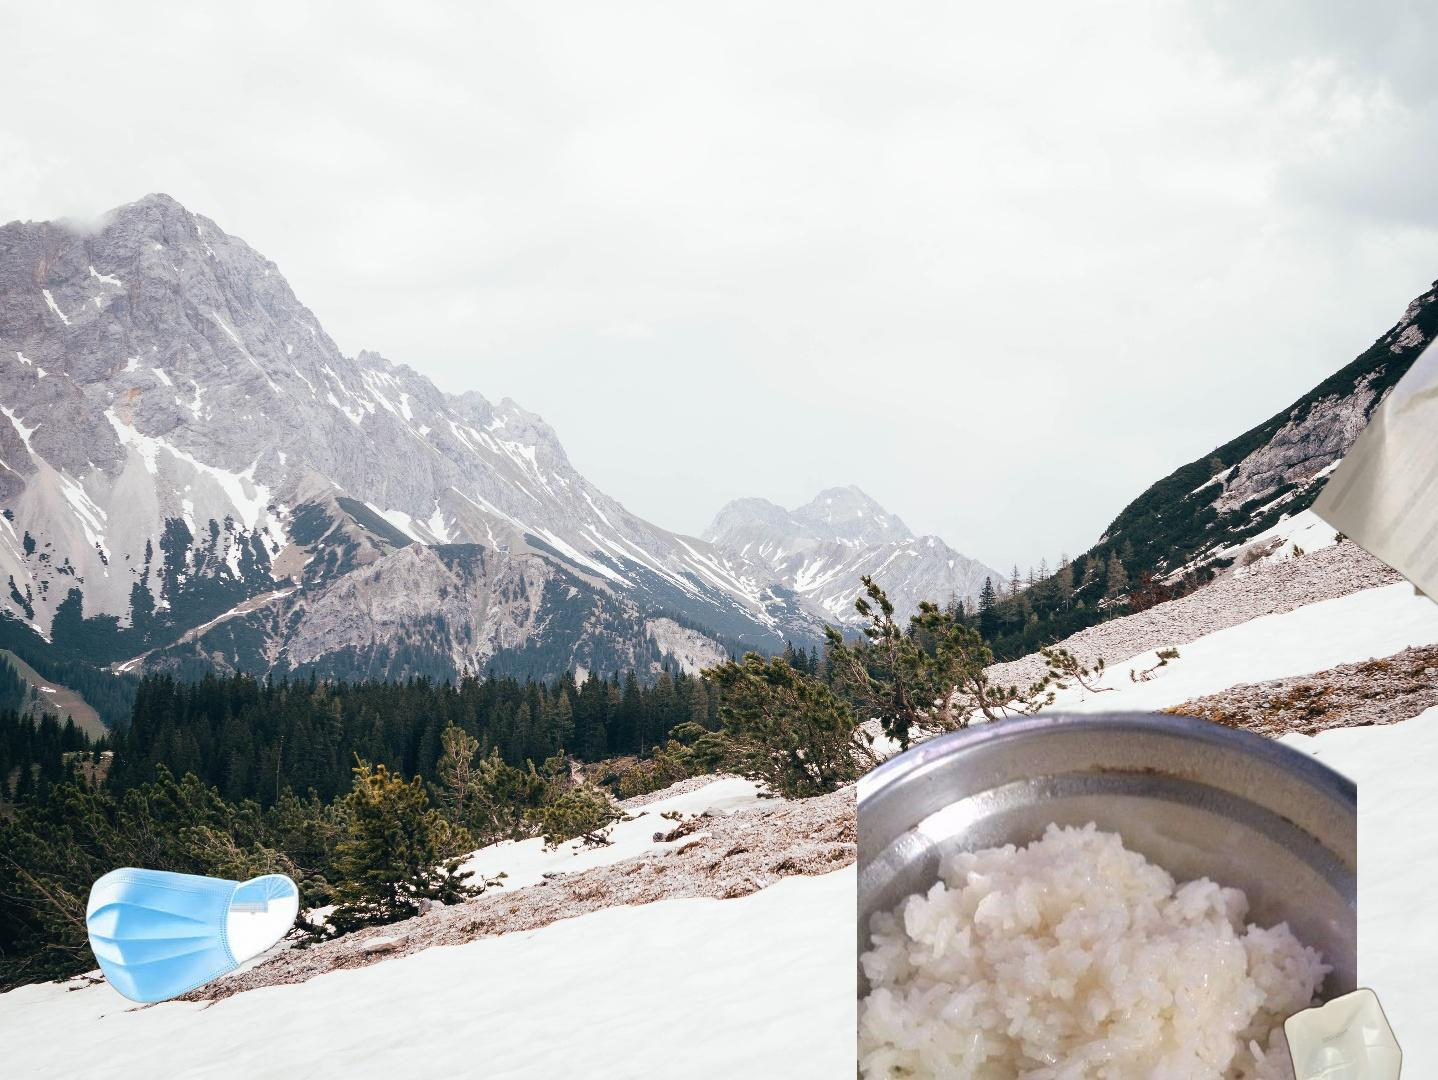biological: (857, 703, 1357, 1080)
paper: (1305, 307, 1438, 692)
plastic-bottles: (1279, 982, 1407, 1080)
trash: (83, 864, 303, 1006)
trashbox-cardboard: (1410, 419, 1438, 600)
